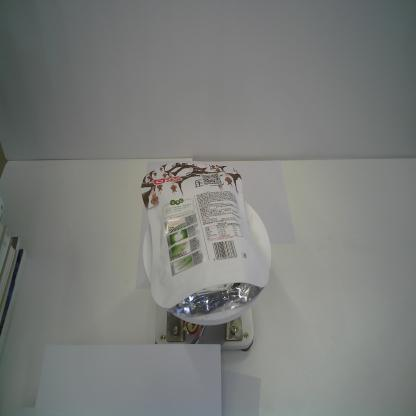Dried Fruit: (139, 160, 270, 320)
